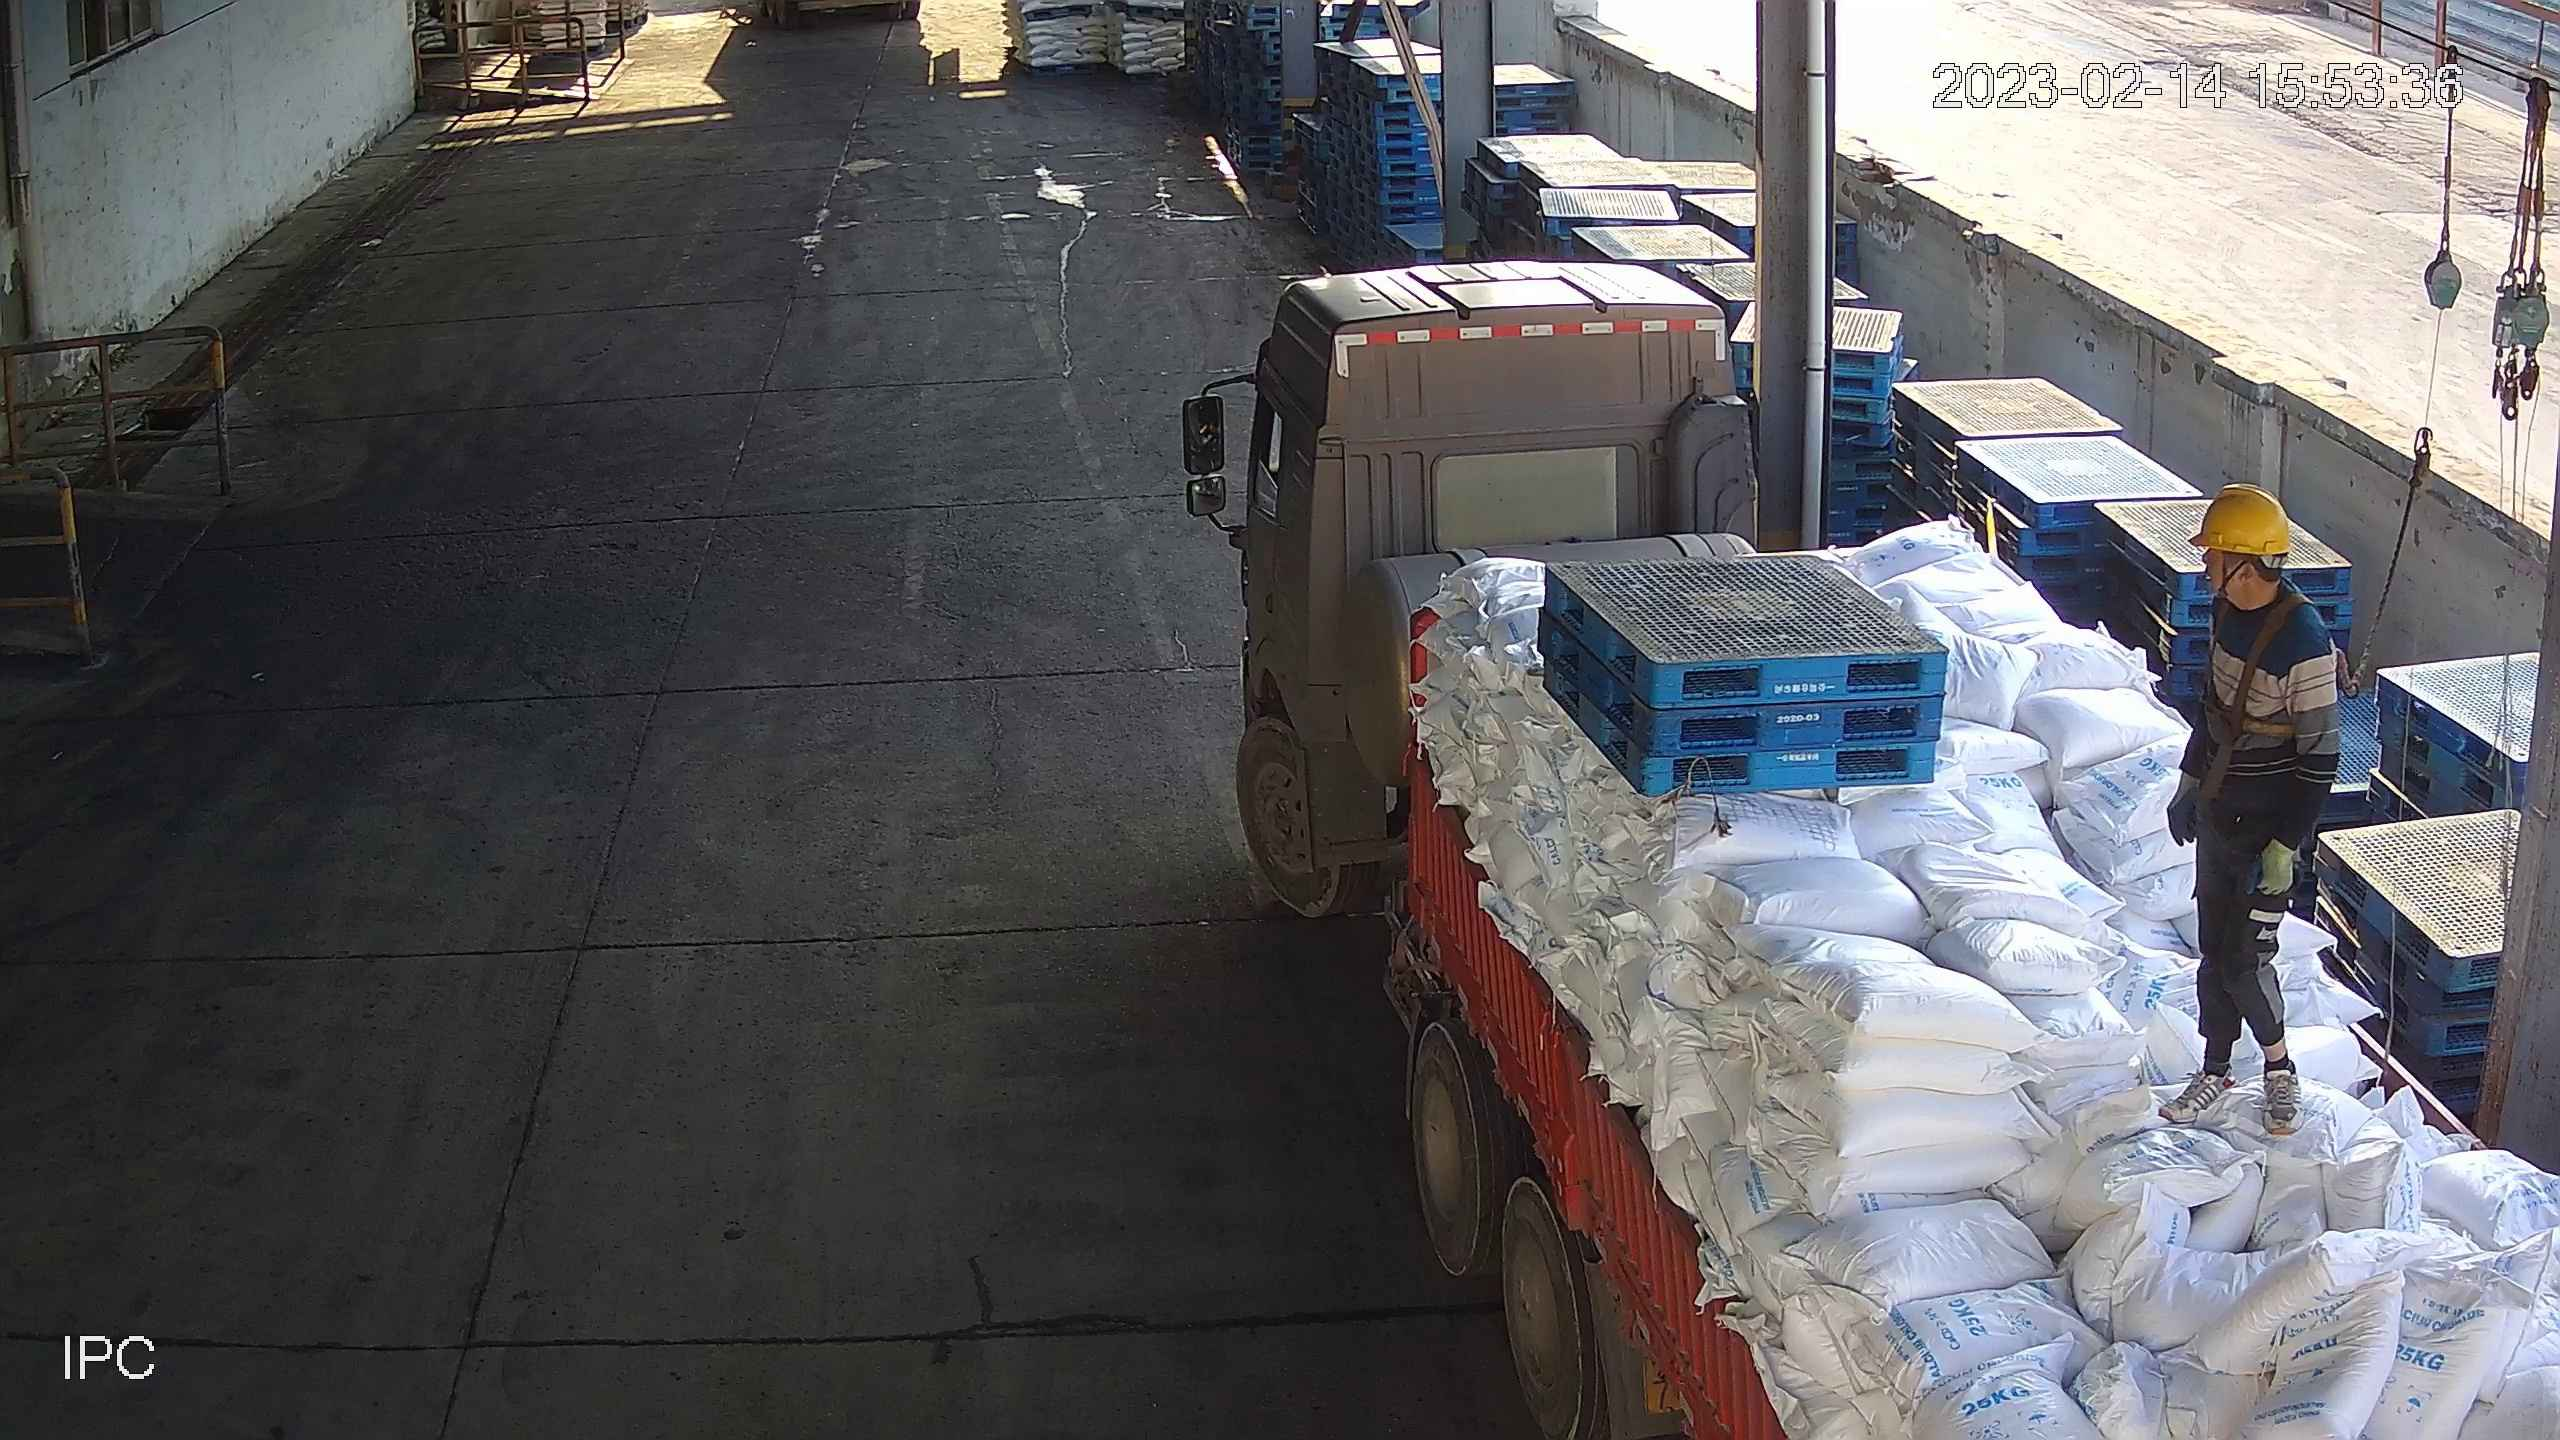belt: (2206, 596, 2324, 791)
head: (2187, 483, 2342, 674)
helmet: (2188, 485, 2294, 556)
people: (2157, 483, 2344, 1134)
truck: (1180, 261, 2560, 1440)
